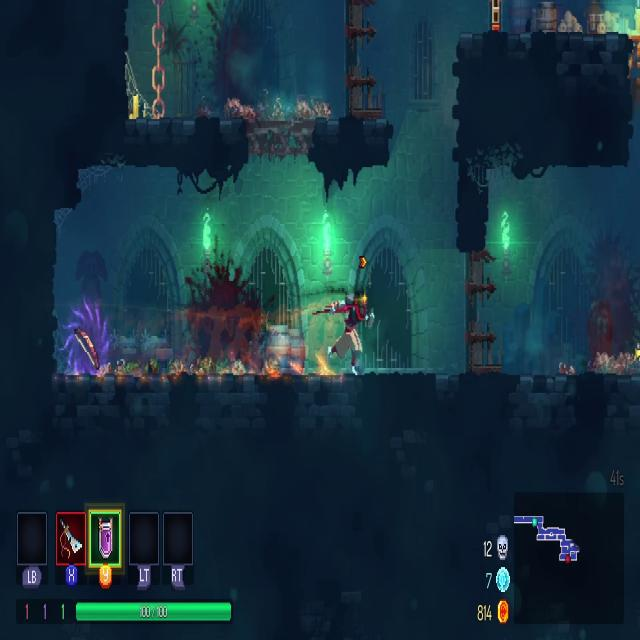agents: (328, 290, 377, 377)
